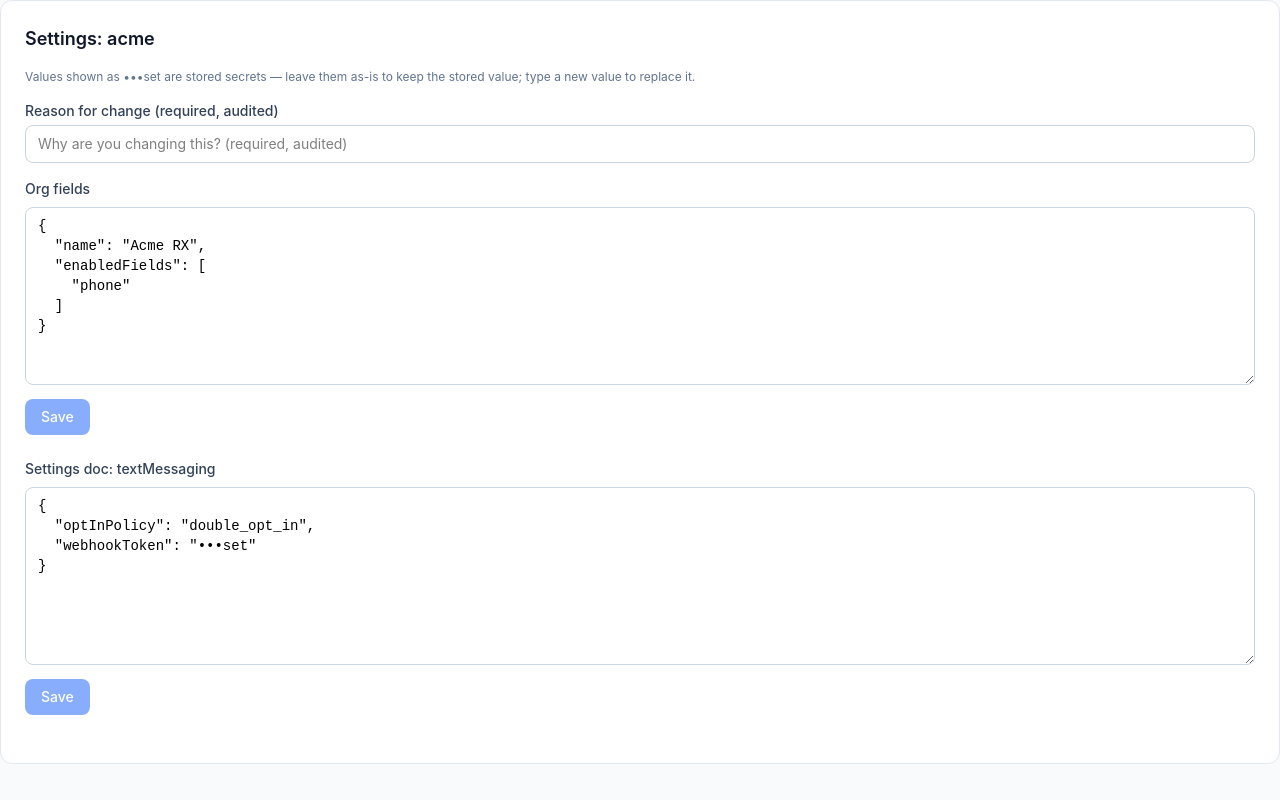
Test: AdminSettingsPanel › disables save button when reason is empty, enables after reason entered
This screenshot has width=1280, height=800.
Expected: the button with test id "admin-settings-save-acme-textMessaging" is disabled, top-left (25, 679), bottom-right (90, 715)
Type "fixing opt-in policy" into the field with test id "admin-settings-reason-acme" at (640, 144), box top-left (25, 125), bottom-right (1255, 163)
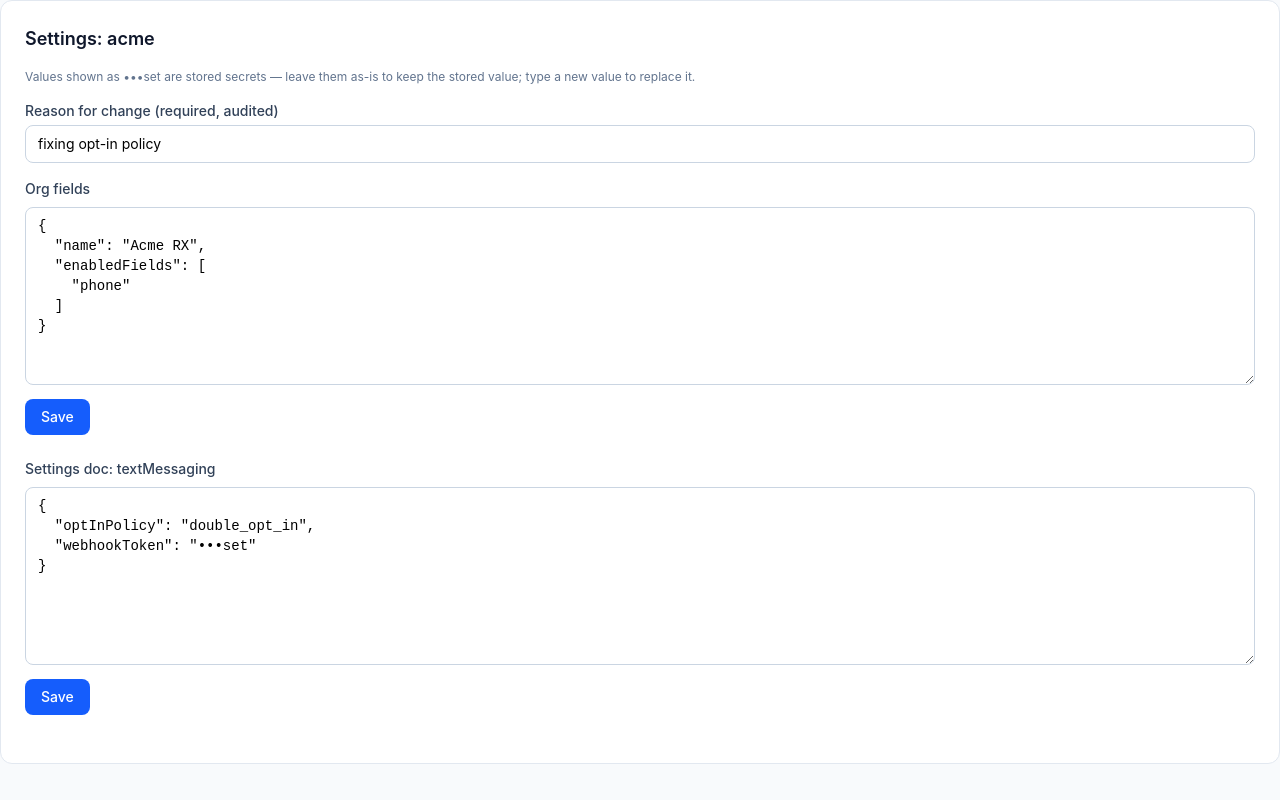
Result: the button with test id "admin-settings-save-acme-textMessaging" is enabled at top-left (25, 679), bottom-right (90, 715)
